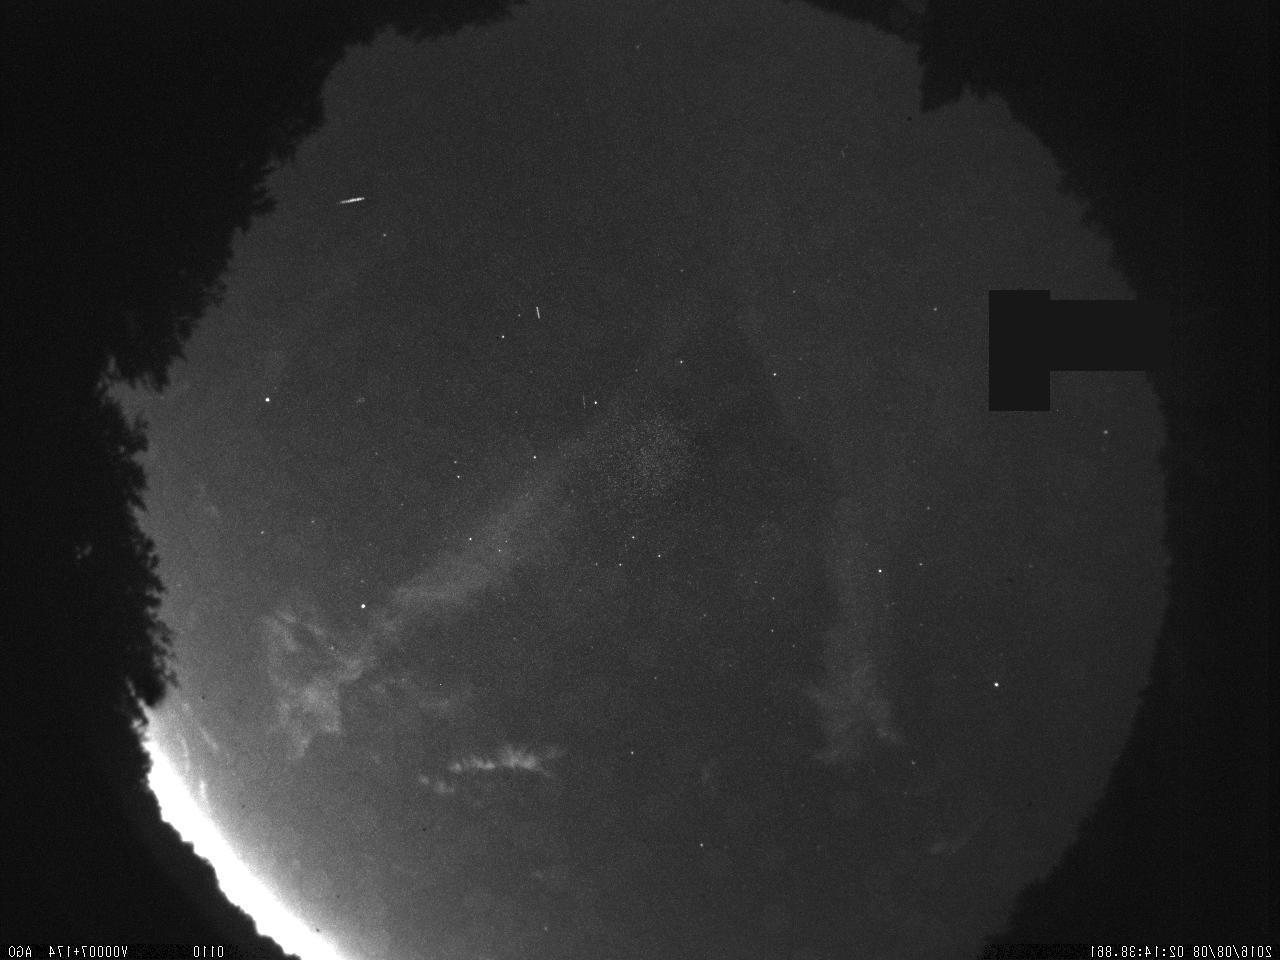meteor: (328, 186, 378, 212)
